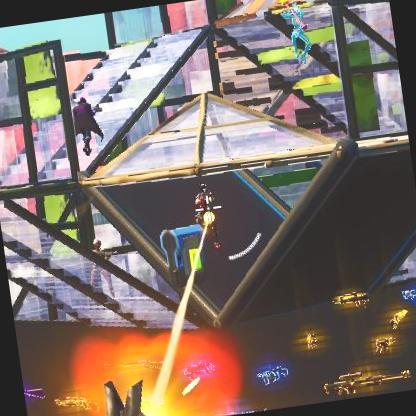person: (84, 238, 112, 311), (197, 183, 227, 251), (284, 5, 312, 74), (72, 95, 106, 150)
